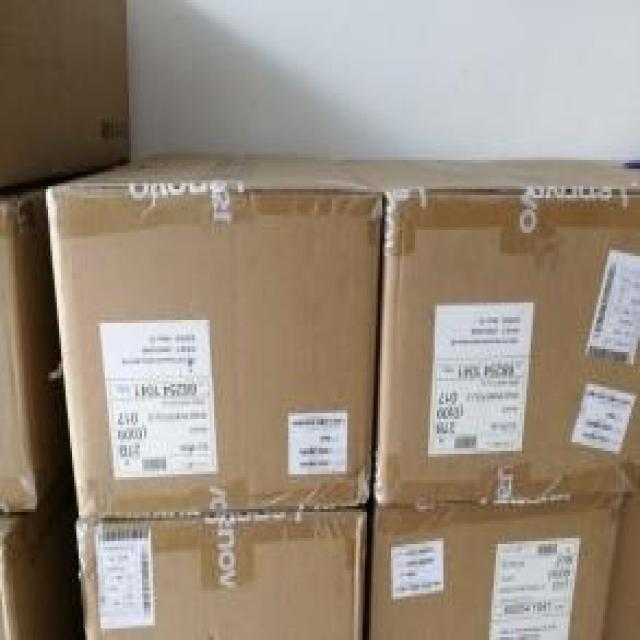box: (46, 157, 384, 518), (336, 160, 640, 509), (367, 495, 640, 637), (74, 512, 374, 640), (0, 186, 72, 509), (0, 463, 85, 637)
